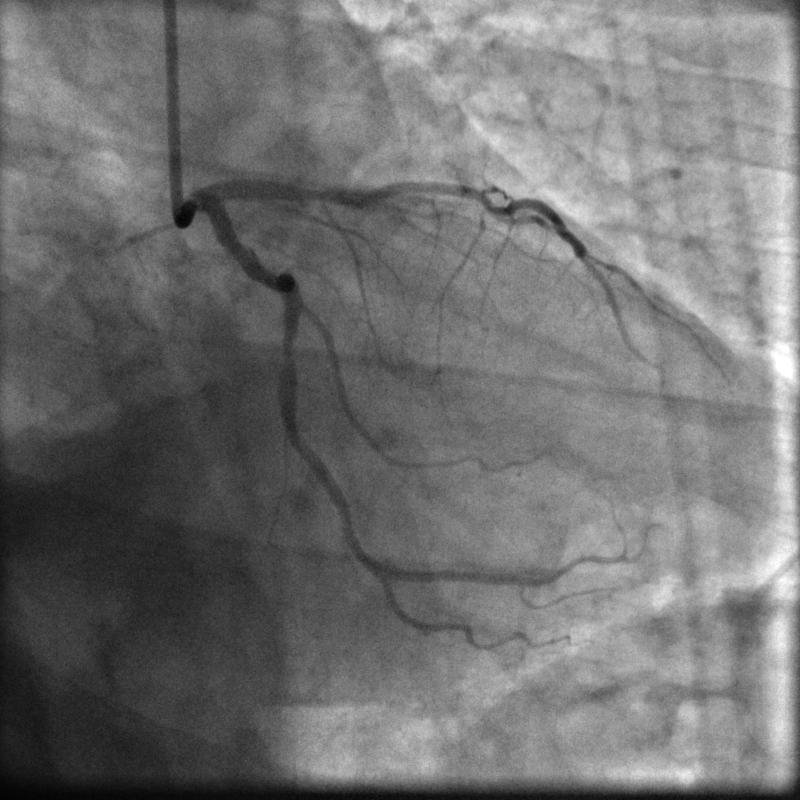Stenosis: (278, 339, 298, 372)
